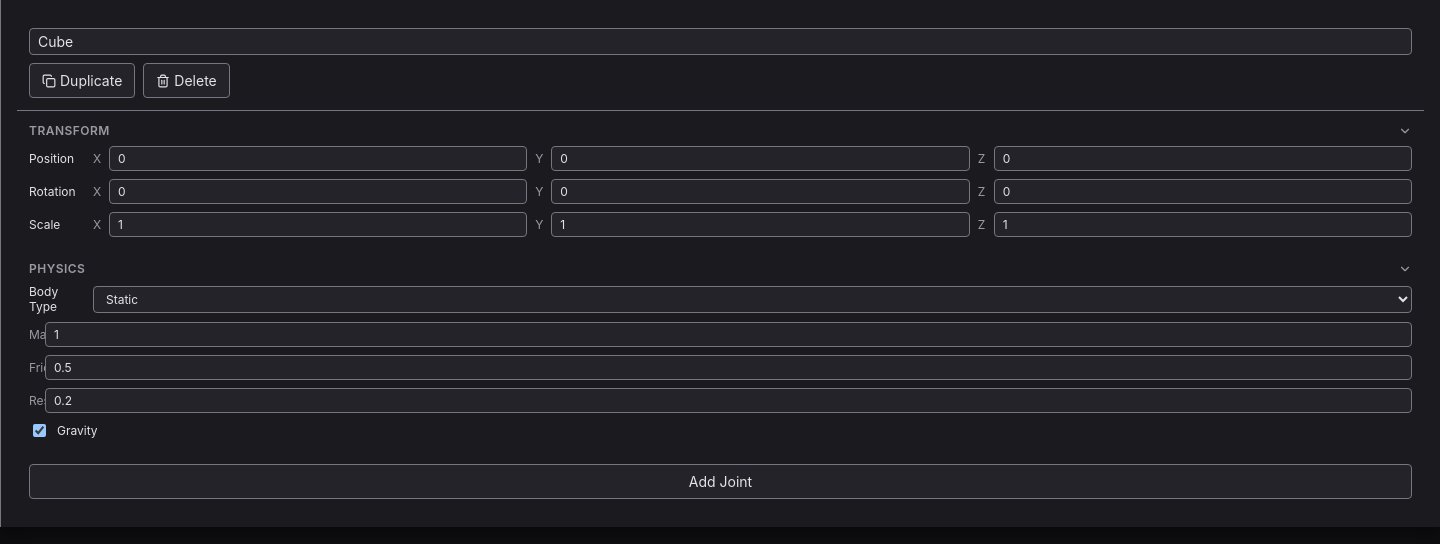
it: PropertiesPanel Transform section (M2.6) / header actions (M2.7) › header actions (M2.7) › M8.2: Duplicate and Delete each show their D24 shortcut in their tooltip
Focus the button "Duplicate" at point(82, 80), box [29,63,135,98]
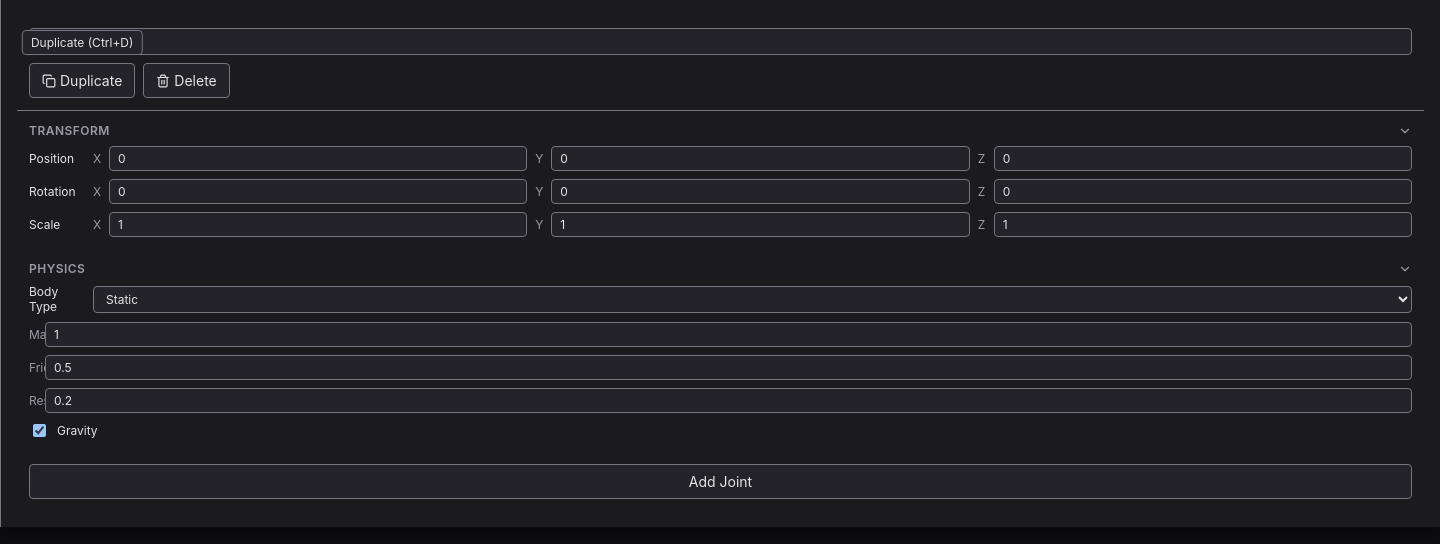
Now the tooltip reads "Duplicate (Ctrl+D)", box [31,35,133,50]
Leave the button "Duplicate", box [29,63,135,98]
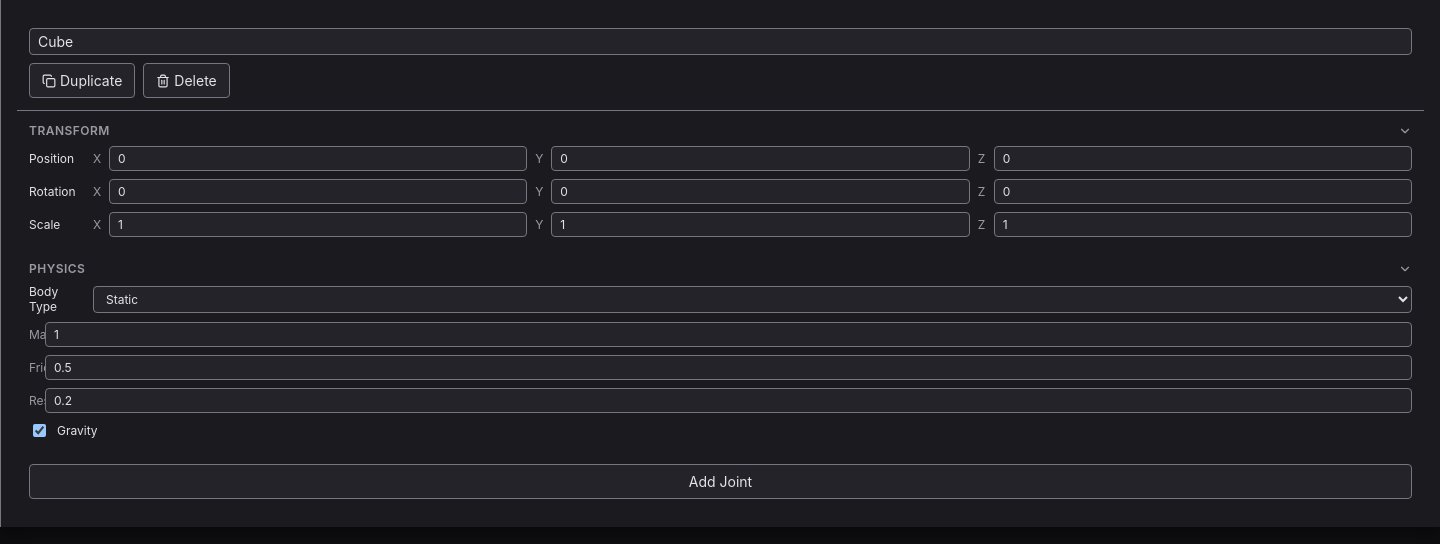
Focus the button "Delete" at point(186, 80), box [143,63,230,98]
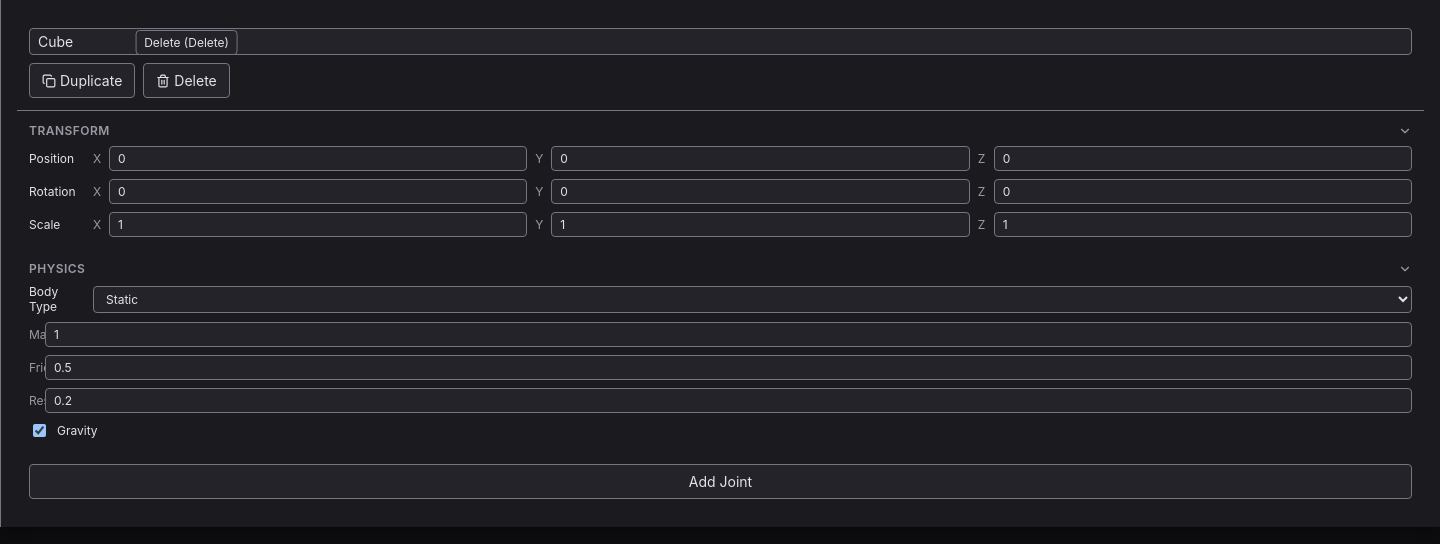
Now the tooltip reads "Delete (Delete)", box [144,35,229,50]
